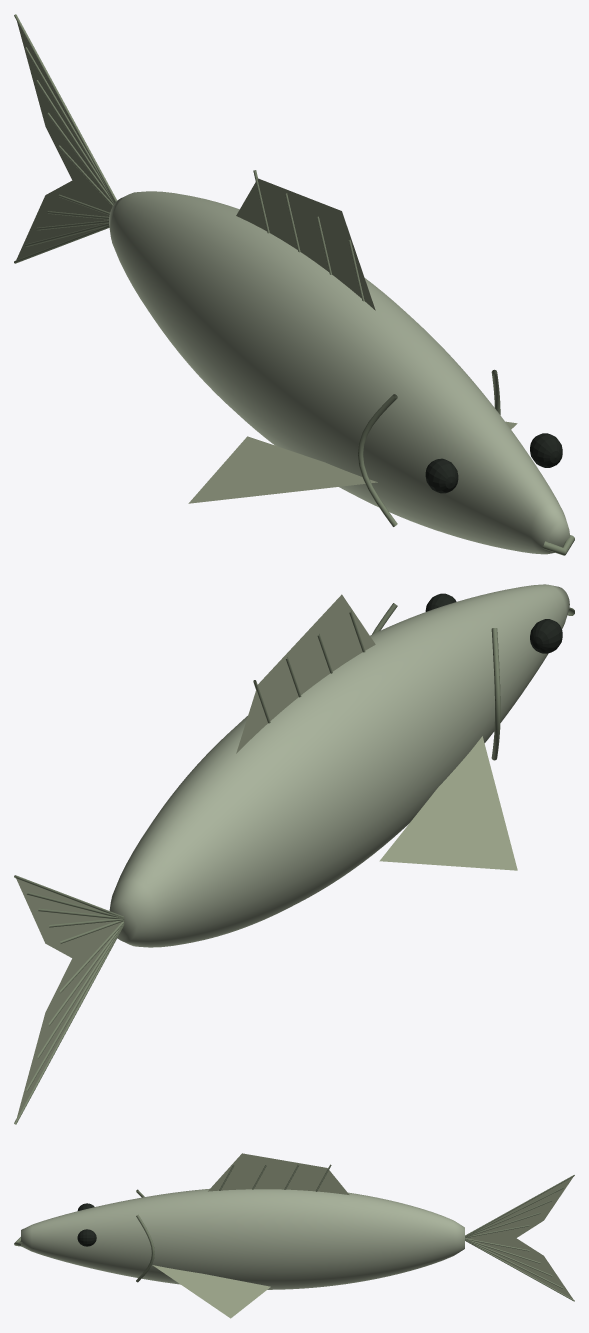
Rendered from grassland_fish.glb.
The picture shows the model from 3 angles, top to bottom: view 1: azimuth 30°, elevation 25°; view 2: azimuth 150°, elevation 25°; view 3: azimuth 270°, elevation 25°; orthographic projection. The views are drawn at different scales.
Parts seen in each view (by area): view 1: FishBody, Dorsal fin, Forked tail membrane, Pectoral fin, Curved gill cover, FishEye.001, FishEye, Tail fin ray.009; view 2: FishBody, Pectoral fin, Dorsal fin, Forked tail membrane, FishEye, Curved gill cover; view 3: FishBody, Forked tail membrane, Dorsal fin, Pectoral fin.001, FishEye.001, Curved gill cover.001, Tail fin ray.009, Tail fin ray.004.
Boxes of the visible parts, box(x1,y1,x2,y2) form: FishBody: box(109, 191, 569, 554); Dorsal fin: box(236, 178, 375, 310); Forked tail membrane: box(16, 22, 112, 260); Pectoral fin: box(188, 436, 377, 503); Curved gill cover: box(358, 394, 397, 526); FishEye.001: box(530, 433, 562, 467); FishEye: box(425, 458, 458, 493); Tail fin ray.009: box(14, 14, 116, 202); FishBody: box(109, 584, 569, 947); Pectoral fin: box(379, 736, 517, 870); Dorsal fin: box(236, 594, 375, 753); Forked tail membrane: box(15, 876, 121, 1119); FishEye: box(530, 619, 562, 653); Curved gill cover: box(491, 628, 500, 760); FishBody: box(21, 1188, 464, 1289); Forked tail membrane: box(466, 1177, 573, 1299); Dorsal fin: box(208, 1153, 349, 1194); Pectoral fin.001: box(152, 1265, 270, 1318); FishEye.001: box(77, 1229, 96, 1246); Curved gill cover.001: box(136, 1214, 154, 1282); Tail fin ray.009: box(465, 1175, 574, 1236); Tail fin ray.004: box(465, 1240, 574, 1301).
Size of the model in its own units: 0.12 by 0.1014 by 0.3475.
